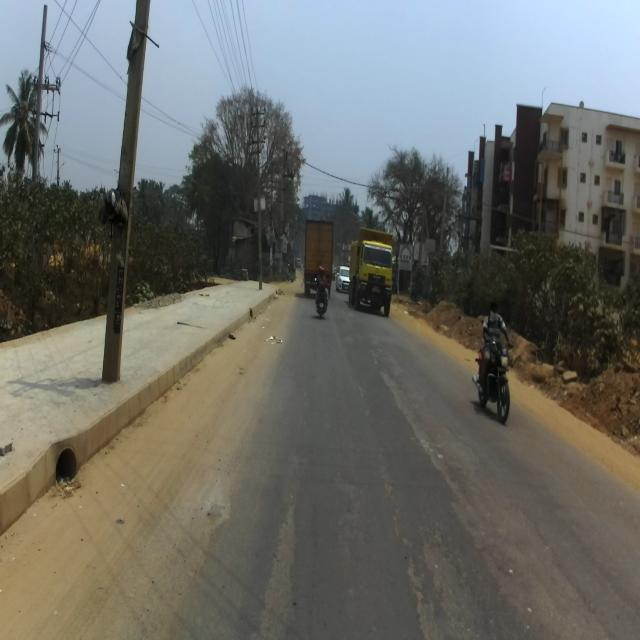electric pole ahead at: (100, 0, 159, 407)
motorcycle ahead at: (474, 335, 521, 431)
truck ahead at: (349, 228, 396, 323)
